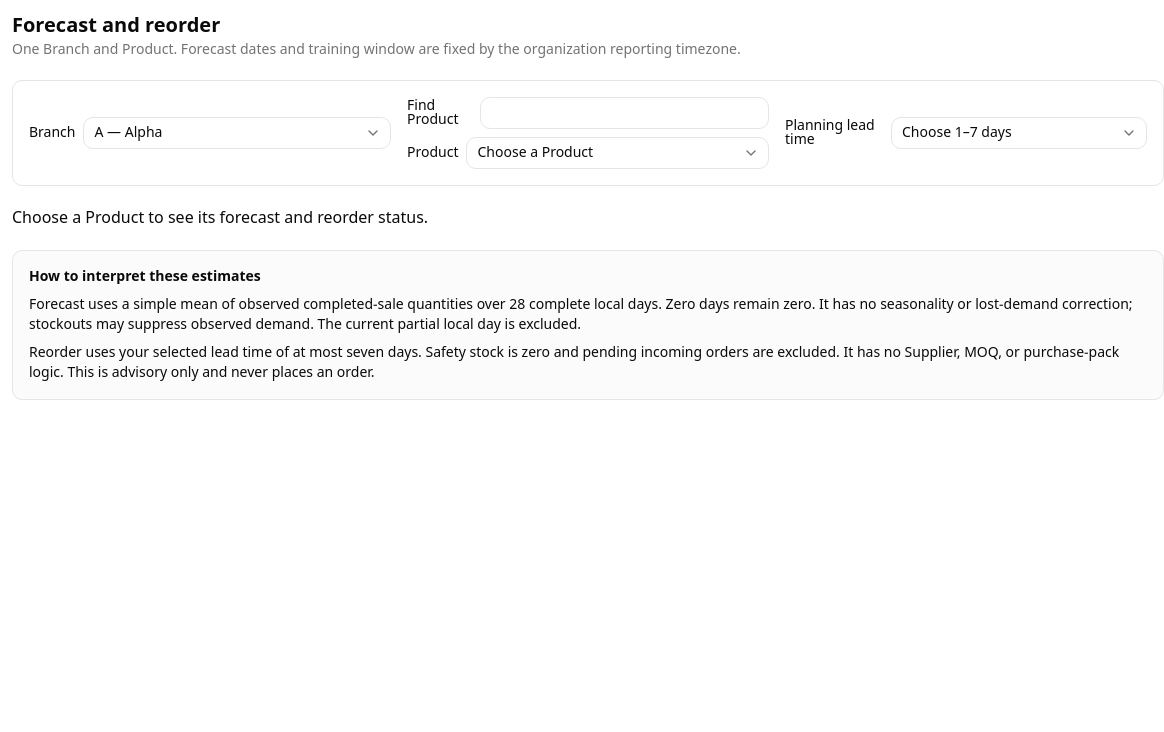
Test: Forecast and reorder view › labels forecast and reorder with their own source cutoffs
This screenshot has width=1164, height=732.
Step 1. Select "ONE — One" in the dropdown labelled "Product" → (618, 153), box [466,137,769,169]
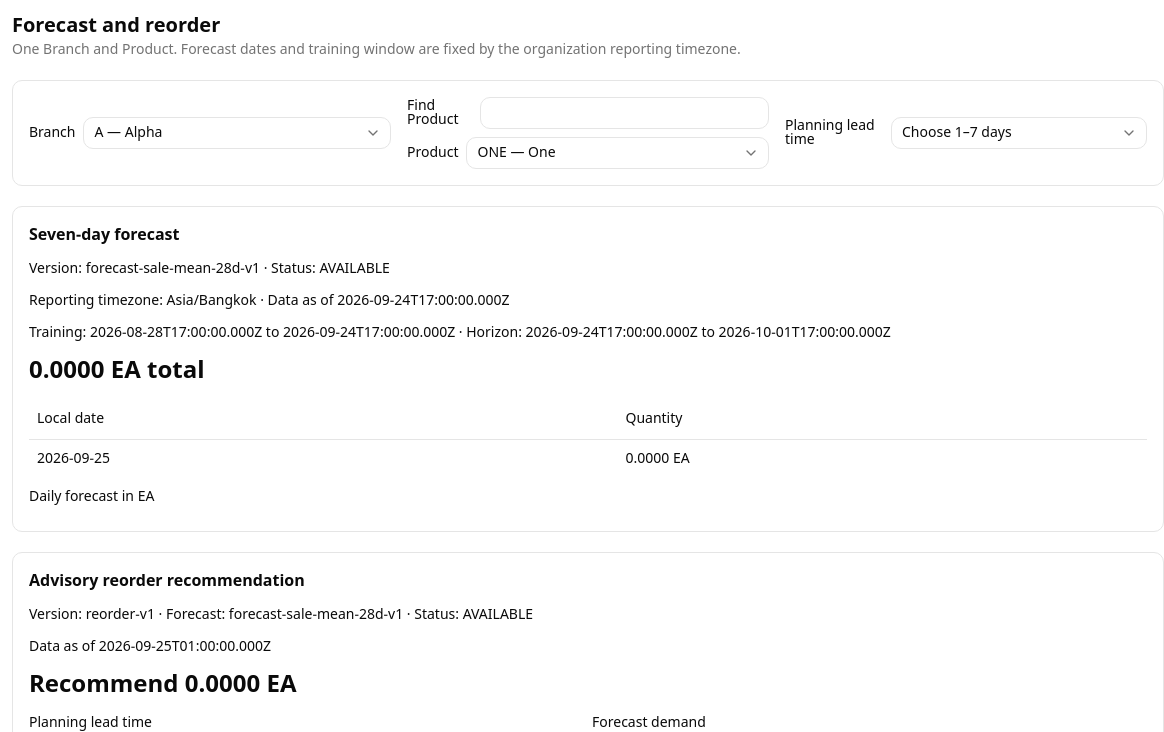
expect the text "Data as of 2026-09-25T01:00:00.000Z" is shown: met, box [29,636,271,657]
